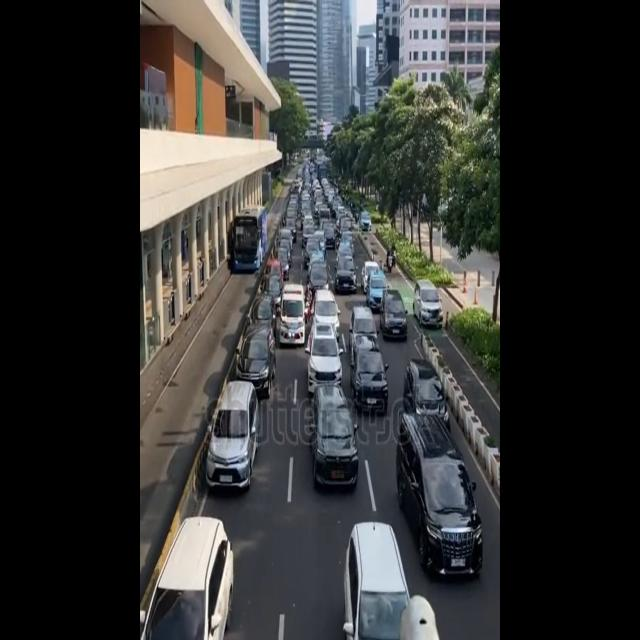Ambulance: (279, 282, 310, 349)
